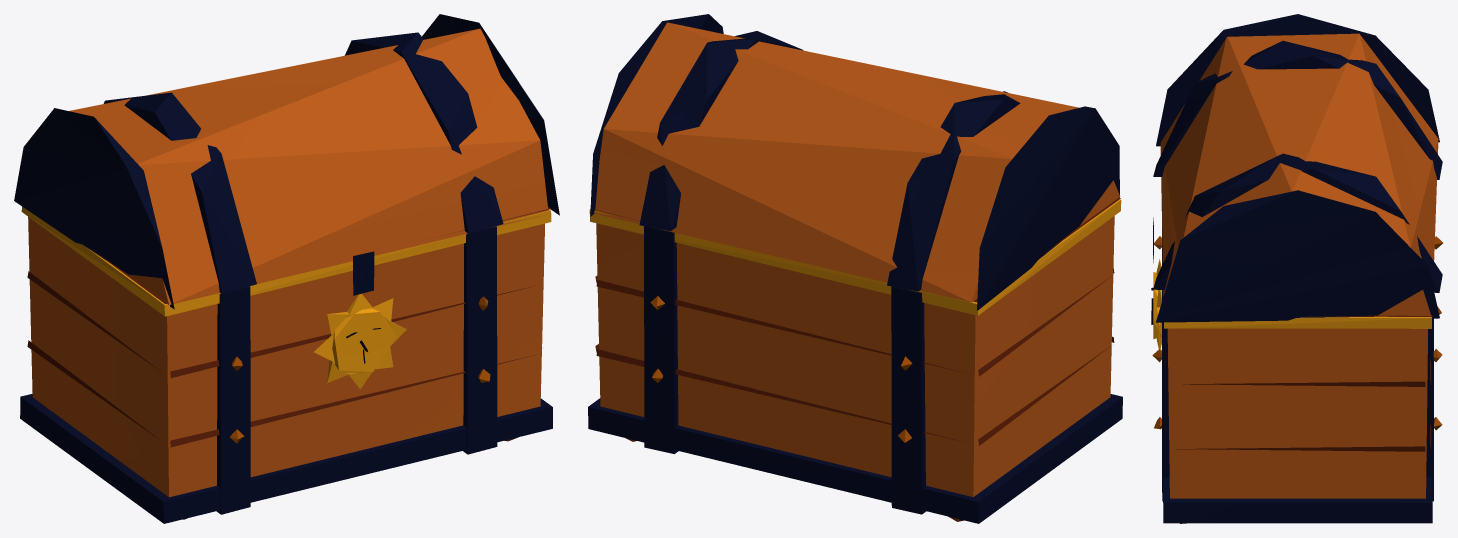
The model's file is tb_chest_small.three-web-toon.lod25.glb.
3 views of the same model, side by side, from view 1: azimuth 30°, elevation 25°; view 2: azimuth 150°, elevation 25°; view 3: azimuth 270°, elevation 25° (orthographic). The views are drawn at different scales.
Visible parts, largest first — view 1: chest_body_lod, chest_lid_lod; view 2: chest_body_lod, chest_lid_lod; view 3: chest_lid_lod, chest_body_lod.
Part boxes in pixels (x1,y1,x2,y2): chest_body_lod: (20,206,552,523); chest_lid_lod: (14,14,559,309); chest_body_lod: (588,199,1122,523); chest_lid_lod: (590,14,1120,310); chest_lid_lod: (1153,14,1442,322); chest_body_lod: (1151,229,1442,523).
Bounding box in the file's own units: 1.44 × 1.29 × 0.981.
